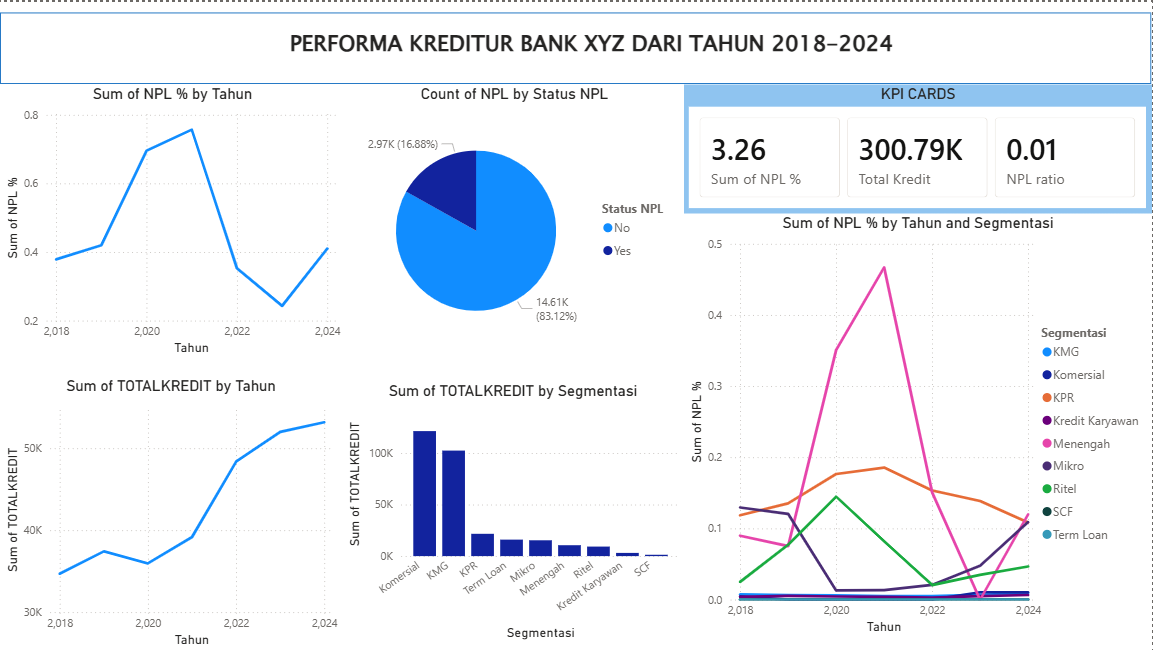

The page's visual inventory and layout, read from the dashboard file:
{"tool":"powerbi","page":{"name":"Page 1","canvas":[1280,720],"ordinal":0},"visuals":[{"type":"lineChart","fields":{"Category":["Sheet2 (2).Tahun"],"Y":["Sum(Sheet2 (2).NPL %)"]},"box":[0,91.7,383.3,305],"z":0},{"type":"lineChart","fields":{"Y":["Sum(Sheet2 (2).NPL %)"],"Category":["Sheet2 (2).Tahun"],"Series":["Sheet2 (2).Segmentasi"]},"box":[760,235,520,471.7],"z":1000},{"type":"columnChart","fields":{"Category":["Sheet2 (2).Segmentasi"],"Y":["Sum(Sheet2 (2).TOTALKREDIT)"]},"box":[380,421.7,380,291.7],"z":2000},{"type":"textbox","box":[272,11.3,772.4,58.3],"z":3000},{"type":"shape","box":[0,11.3,1279.2,79.3],"z":4000},{"type":"textbox","box":[235.7,22.9,844.3,58.6],"z":5000},{"type":"cardVisual","title":"KPI CARDS","fields":{"Data":["Sum(Sheet2 (2).NPL %)","Sheet1.NPL ratio","Sum(Sheet1.Bunga)"]},"box":[760,92,520,128],"z":6000},{"type":"lineChart","fields":{"Category":["Sheet2 (2).Tahun"],"Y":["Sum(Sheet2 (2).TOTALKREDIT)"]},"box":[0,416,380,304],"z":7000},{"type":"pieChart","fields":{"Category":["Sheet1.Status NPL"],"Y":["CountNonNull(Sheet1.NPL)"]},"box":[383.3,91.7,376.7,305],"z":8000}]}

Visuals, with their boxes in screenshot pixels (x1, y1, x2, y2), scaled from the page's 1280x720 canvas onto the 1153x650 screenshot:
lineChart - Sheet2 (2).Tahun x Sum(Sheet2 (2).NPL %): (x1=0, y1=83, x2=345, y2=358)
lineChart - Sum(Sheet2 (2).NPL %) x Sheet2 (2).Tahun: (x1=685, y1=212, x2=1152, y2=638)
columnChart - Sheet2 (2).Segmentasi x Sum(Sheet2 (2).TOTALKREDIT): (x1=342, y1=381, x2=685, y2=644)
textbox: (x1=245, y1=10, x2=941, y2=63)
shape: (x1=0, y1=10, x2=1152, y2=82)
textbox: (x1=212, y1=21, x2=973, y2=74)
"KPI CARDS" cardVisual: (x1=685, y1=83, x2=1152, y2=199)
lineChart - Sheet2 (2).Tahun x Sum(Sheet2 (2).TOTALKREDIT): (x1=0, y1=376, x2=342, y2=649)
pieChart - Sheet1.Status NPL x CountNonNull(Sheet1.NPL): (x1=345, y1=83, x2=685, y2=358)
